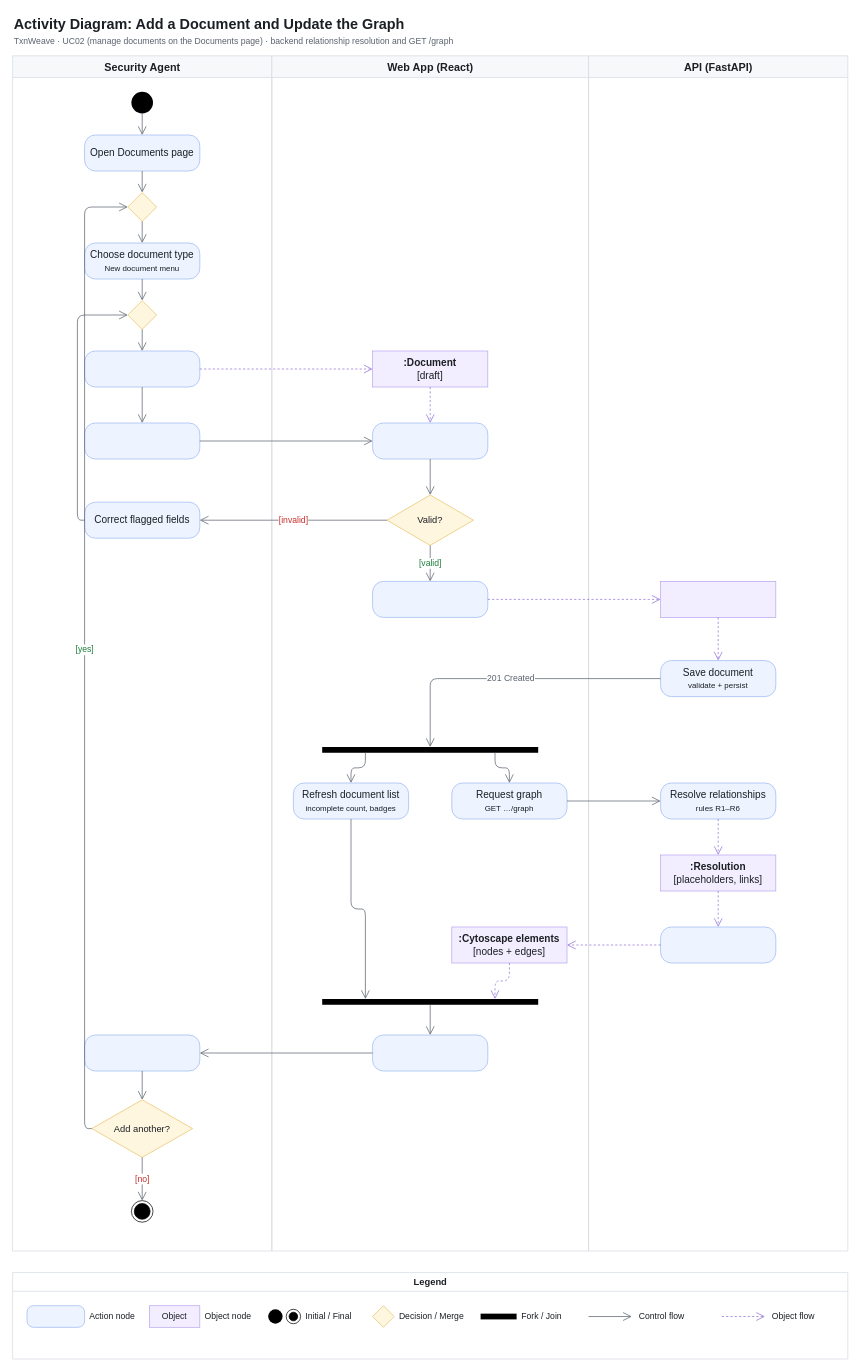
Image size: 860x1372. Some labels were removed from this diagram. The centre of each missing label's shape, as x and y in pixels:
":Document [JSON request]" belongs at [718,599].
"Action" belongs at [55,1316].
"Build Cytoscape elements" belongs at [718,944].
"Click Save" belongs at [142,440].
"Fill in form fields" belongs at [142,368].
"Render graph Cytoscape canvas" belongs at [430,1052].
"Review updated graph Investigation page" belongs at [142,1052].
"Send document POST …/documents" belongs at [430,599].
"Validate form required fields, formats" belongs at [430,440].
